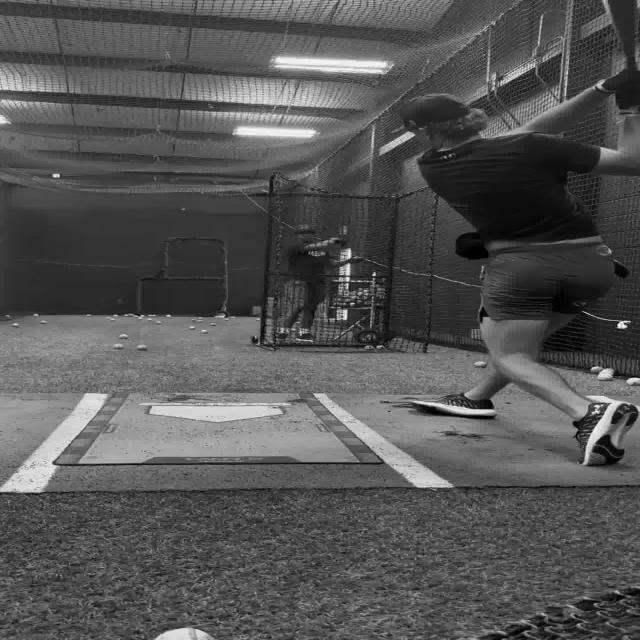base: (152, 407, 288, 421)
baseball: (153, 627, 215, 639), (625, 378, 639, 386), (589, 366, 602, 373), (472, 361, 487, 367), (135, 344, 147, 350), (112, 344, 124, 349), (364, 345, 374, 350), (118, 334, 128, 338), (200, 329, 208, 333), (209, 322, 215, 326), (188, 326, 196, 329), (40, 320, 46, 324), (12, 323, 18, 326), (155, 321, 161, 324), (85, 314, 91, 317), (32, 314, 38, 316)
bat: (602, 0, 640, 74)
shoe: (572, 401, 638, 466), (410, 392, 496, 417), (294, 332, 314, 342), (275, 328, 289, 338)
